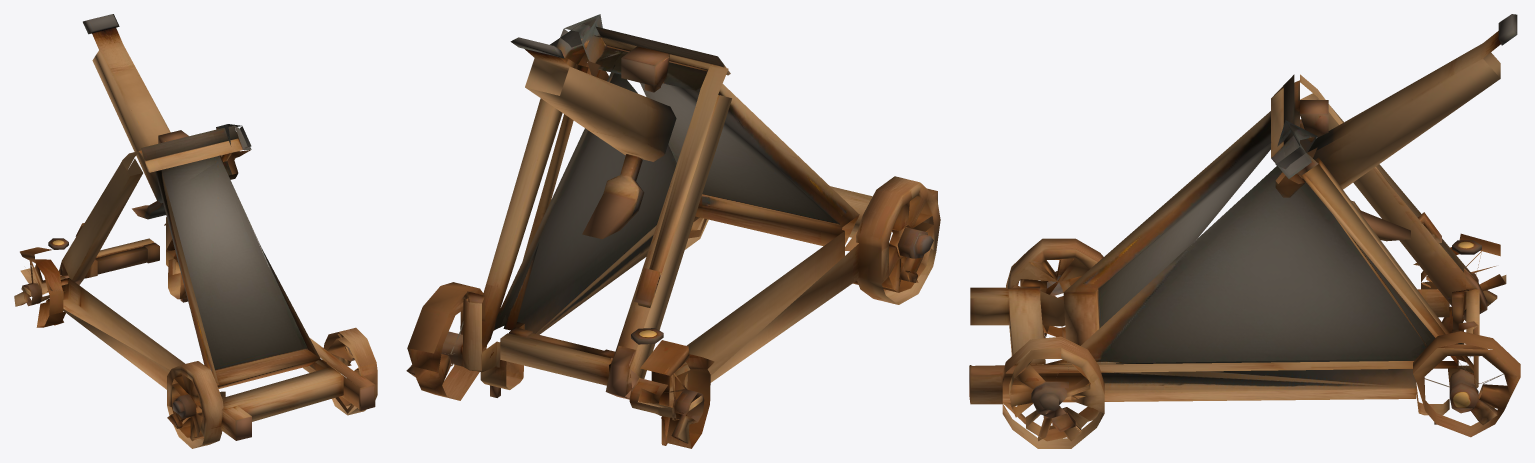
The model's file is catapult.glb.
3 views of the same model, side by side, from view 1: azimuth 30°, elevation 25°; view 2: azimuth 150°, elevation 25°; view 3: azimuth 270°, elevation 25° (orthographic). The views are drawn at different scales.
Parts seen in each view (by area): view 1: tripo_node_ae75aa1e-e15c-4c8b-b9dd-9a0b51284419; view 2: tripo_node_ae75aa1e-e15c-4c8b-b9dd-9a0b51284419; view 3: tripo_node_ae75aa1e-e15c-4c8b-b9dd-9a0b51284419.
Part boxes in pixels (box(x1,y1,x2,y2)): tripo_node_ae75aa1e-e15c-4c8b-b9dd-9a0b51284419: box(14, 14, 377, 448); tripo_node_ae75aa1e-e15c-4c8b-b9dd-9a0b51284419: box(406, 14, 940, 448); tripo_node_ae75aa1e-e15c-4c8b-b9dd-9a0b51284419: box(969, 14, 1520, 448).
Bounding box in the file's own units: 0.4253 × 0.6 × 0.8038.
1 material, 1 textured.
